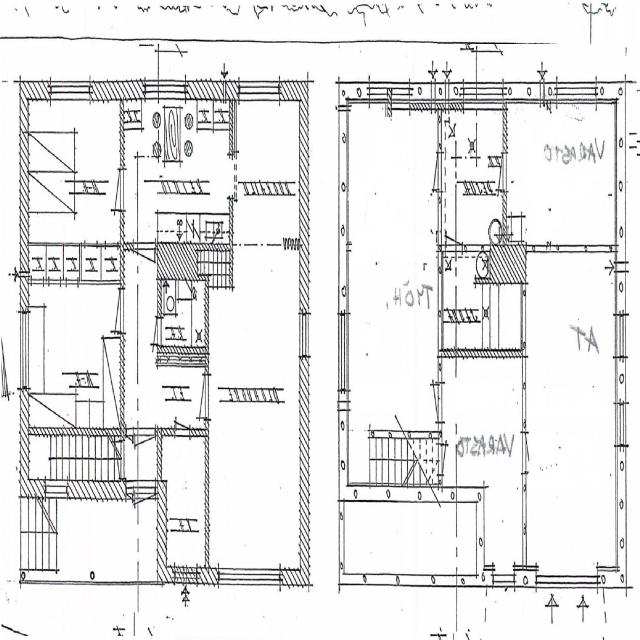door: (135, 481, 156, 541), (134, 243, 156, 296), (99, 289, 124, 332), (184, 374, 208, 418), (135, 428, 156, 478), (522, 432, 546, 473), (100, 169, 124, 210), (418, 151, 442, 191), (418, 383, 442, 422), (484, 153, 507, 191), (102, 440, 124, 477), (446, 210, 462, 252), (438, 444, 457, 475), (175, 397, 190, 436), (144, 316, 162, 344), (126, 481, 133, 513), (126, 428, 134, 451)
